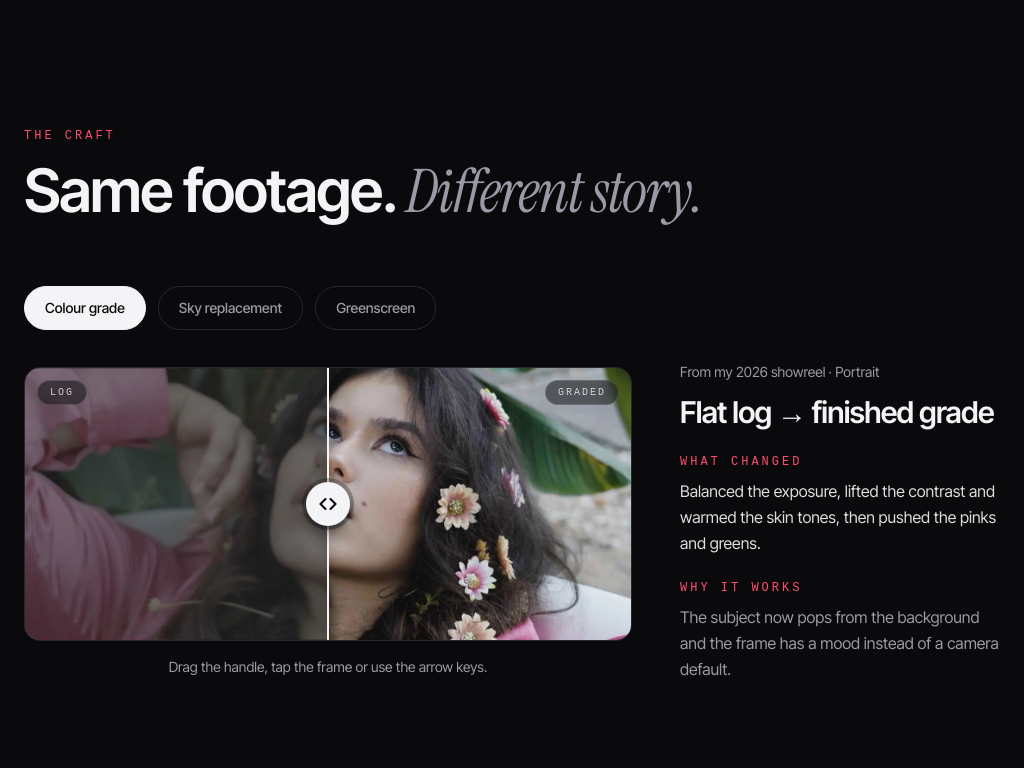
Test: BeforeAfter › clicking a tab swaps the comparison
Click the tab "Greenscreen" at coordinates (376, 308), box [315,286,436,330]
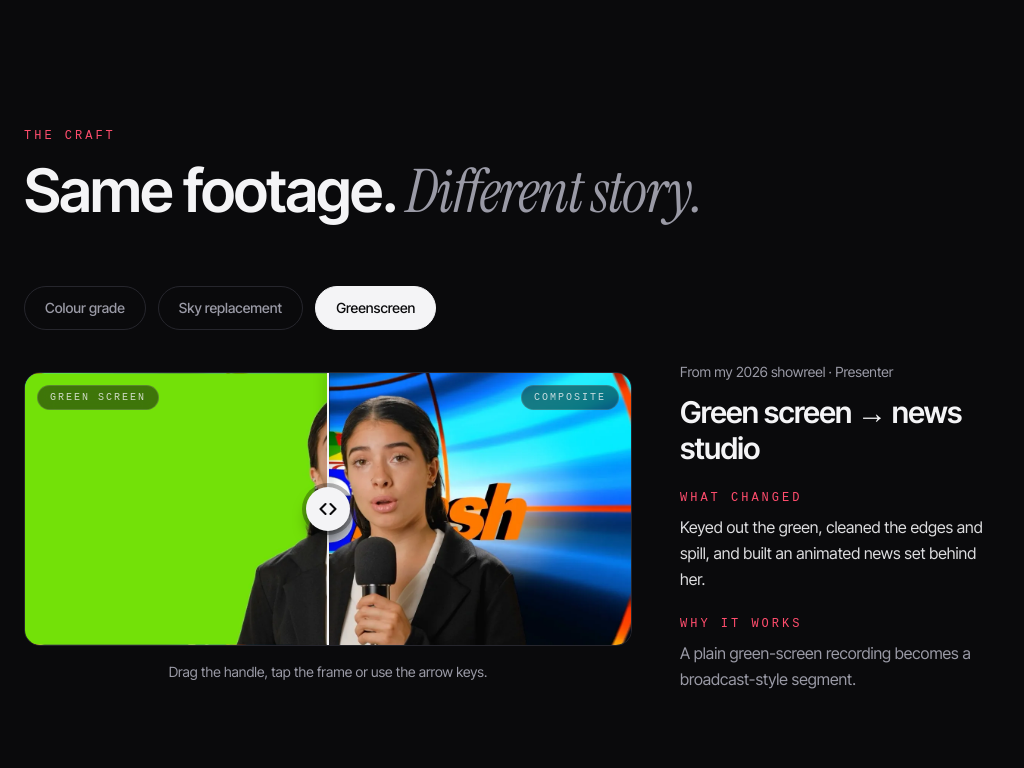
Result: the picture named "The same presenter in front of an animated NEWS flash studio set" is shown at [25,373,631,645]
Result: the text "Keyed out the green, cleaned the edges and spill, and built an animated news set behind her." is shown at [680,517,983,589]
Result: the text "Balanced the exposure, lifted the contrast and warmed the skin tones, then pushed the pinks and greens." is gone
